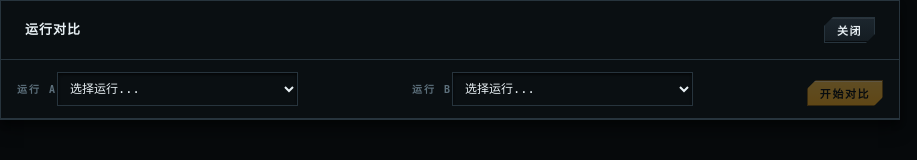
RunCompare › 对比按钮状态 › 选择两个运行后按钮启用
Select "2024年8月30日 06:40 — success" in the dropdown next to "运行 A" at (178, 89), box [57,72,298,106]
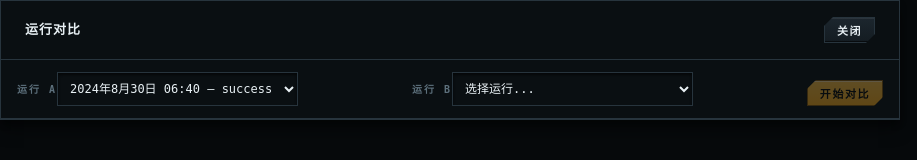
Select "2024年8月30日 06:56 — success" in the dropdown next to "运行 B" at (572, 89), box [452,72,693,106]
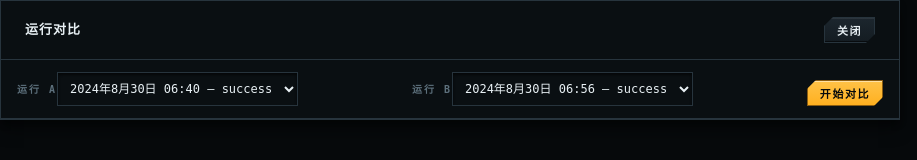
Expected: the button "开始对比" is enabled, [807,80,883,106]
